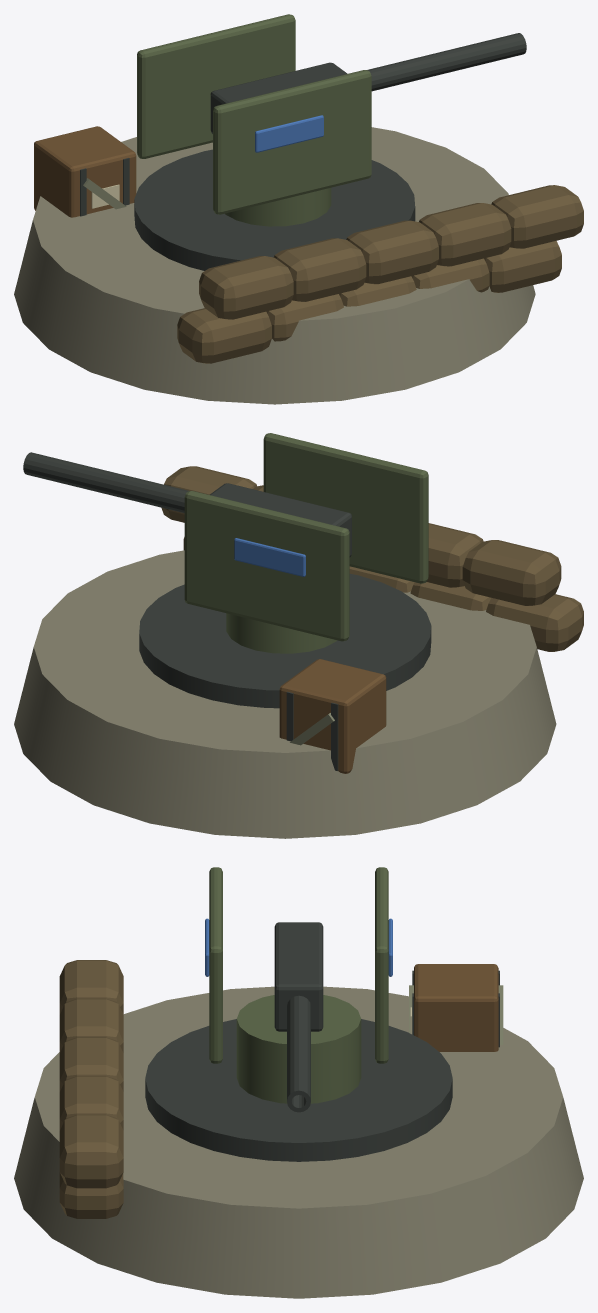
The model's file is turret.glb.
The picture shows the model from 3 angles, top to bottom: view 1: azimuth 30°, elevation 25°; view 2: azimuth 150°, elevation 25°; view 3: azimuth 270°, elevation 25°; orthographic projection. The views are drawn at different scales.
Parts seen in each view (by area): view 1: Concrete, Canvas, Armor, Steel, Timber, TeamColor; view 2: Concrete, Armor, Steel, Canvas, Timber, TeamColor; view 3: Concrete, Steel, Canvas, Armor, Timber, TeamColor.
Boxes of the visible parts, left/top/right/bottom form: Concrete: left=14, top=127, right=535, bottom=404; Canvas: left=177, top=185, right=583, bottom=363; Armor: left=137, top=14, right=371, bottom=226; Steel: left=80, top=33, right=526, bottom=270; Timber: left=34, top=126, right=136, bottom=217; TeamColor: left=255, top=115, right=323, bottom=152; Concrete: left=14, top=550, right=556, bottom=838; Armor: left=184, top=433, right=428, bottom=653; Steel: left=23, top=452, right=431, bottom=770; Canvas: left=161, top=466, right=583, bottom=651; Timber: left=279, top=659, right=386, bottom=773; TeamColor: left=234, top=538, right=305, bottom=576; Concrete: left=14, top=986, right=583, bottom=1298; Steel: left=145, top=922, right=499, bottom=1161; Canvas: left=59, top=960, right=123, bottom=1218; Armor: left=209, top=867, right=388, bottom=1103; Timber: left=414, top=964, right=498, bottom=1051; TeamColor: left=205, top=918, right=392, bottom=976.
Bounding box in the file's own units: 3.45 × 1.66 × 3.3.
